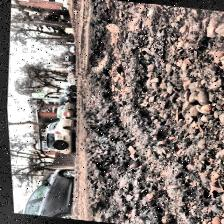pothole: (58, 0, 224, 224)
